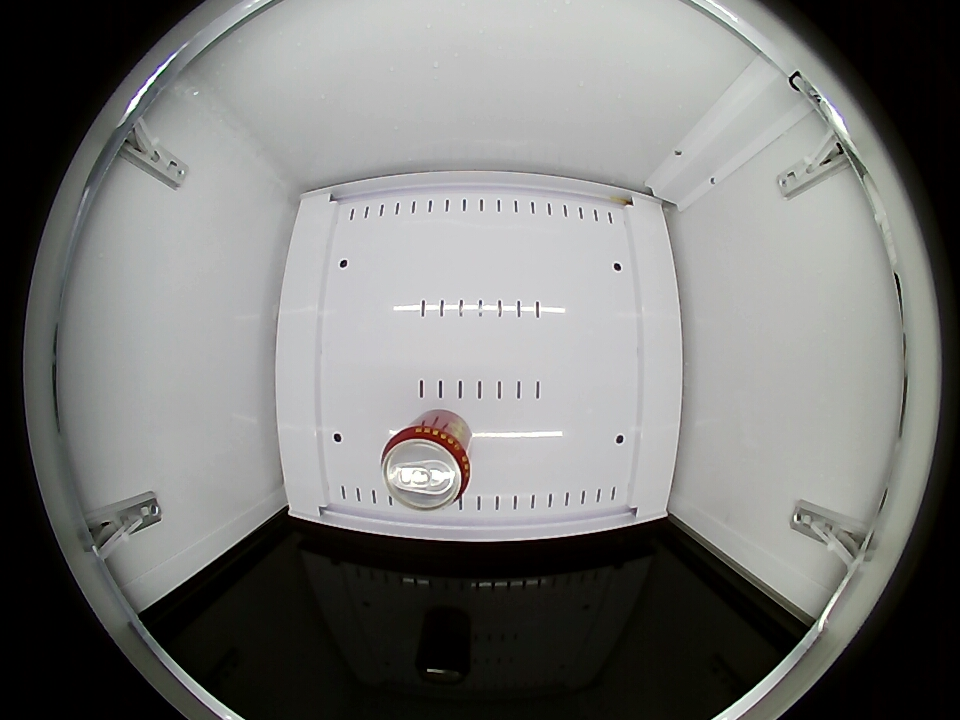wanglaoji-c: (380, 424, 472, 511)
